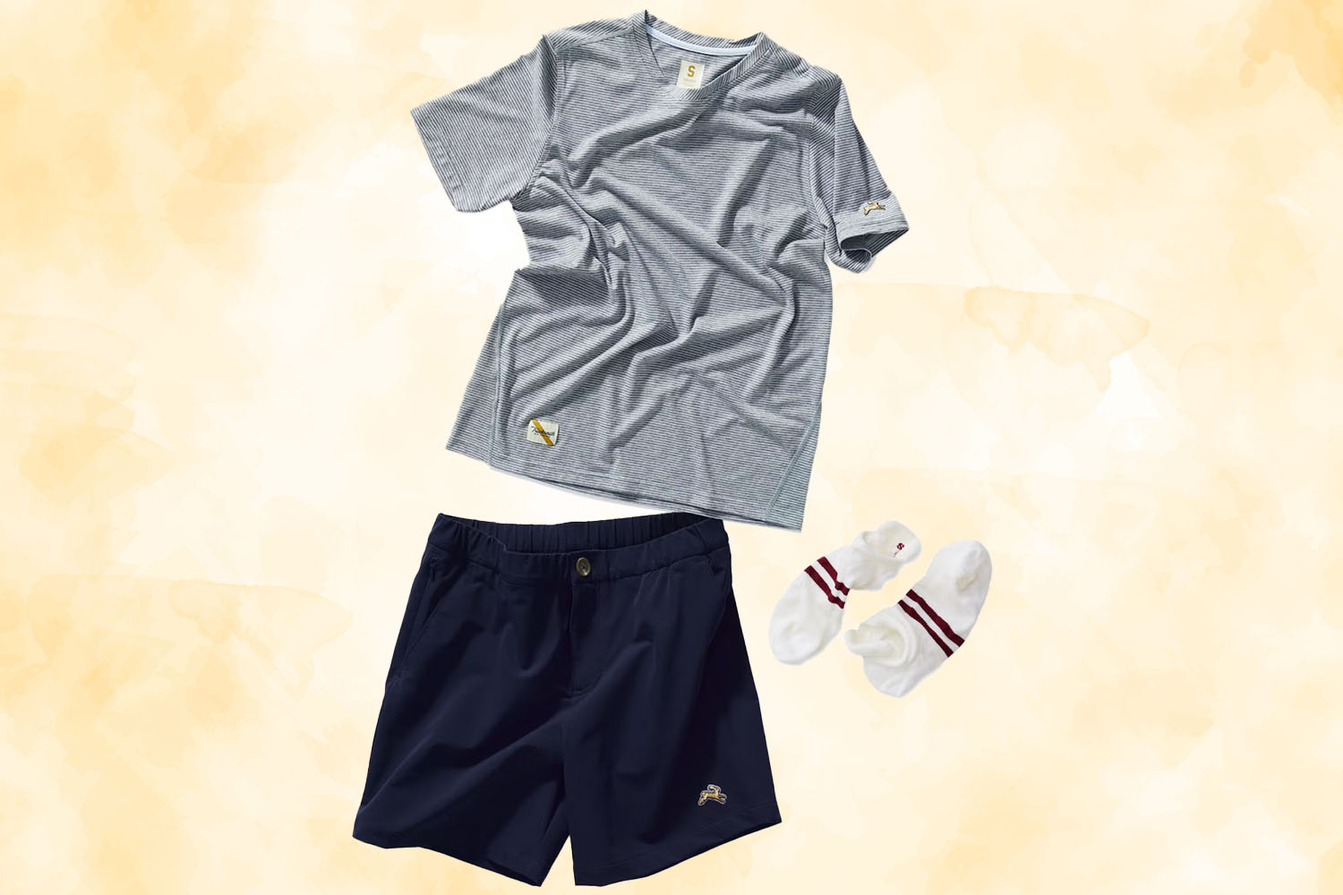egg: (353, 512, 782, 887)
